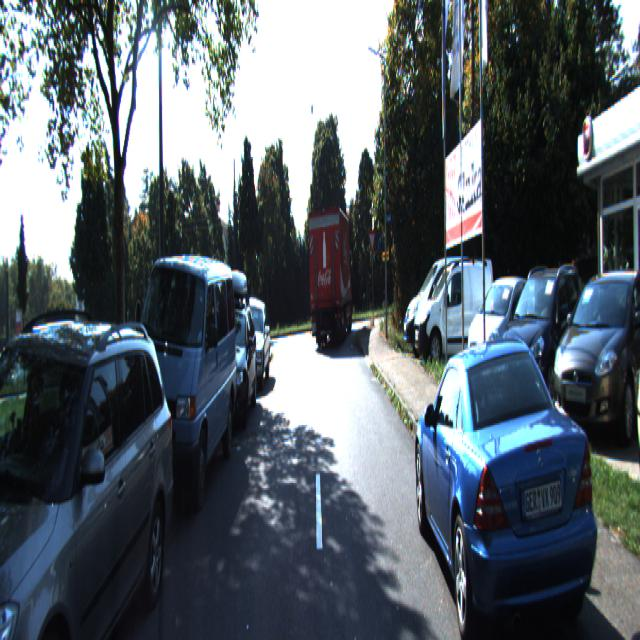Car: (411, 309, 610, 638), (0, 315, 180, 639), (120, 240, 240, 526), (550, 267, 640, 457), (495, 270, 588, 416), (598, 334, 639, 638), (402, 253, 498, 360), (200, 291, 262, 438), (413, 261, 493, 372), (465, 275, 540, 389), (306, 209, 354, 354), (233, 296, 273, 397)
